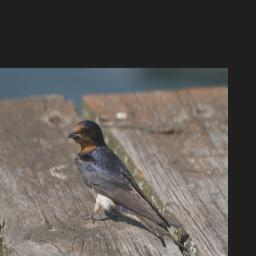Swallow: (67, 119, 190, 254)
